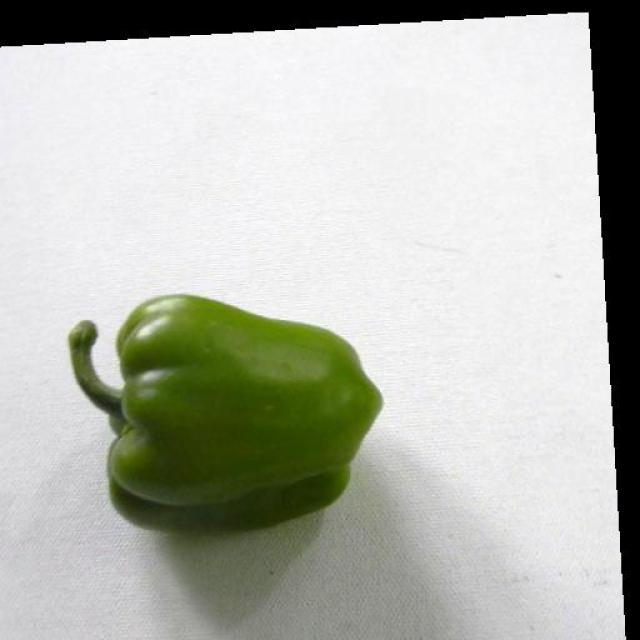Fresh_Capsicum: (59, 264, 388, 544)
